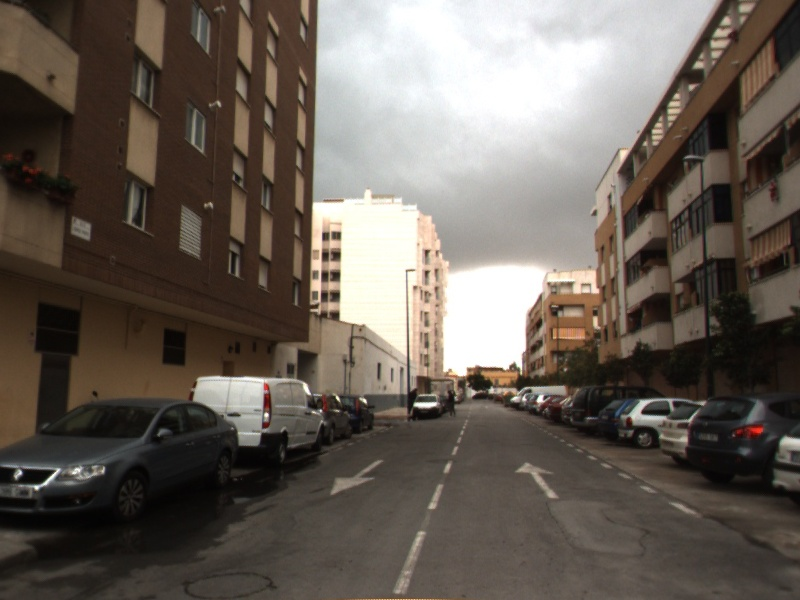STRAIGHT: (513, 460, 562, 500)
